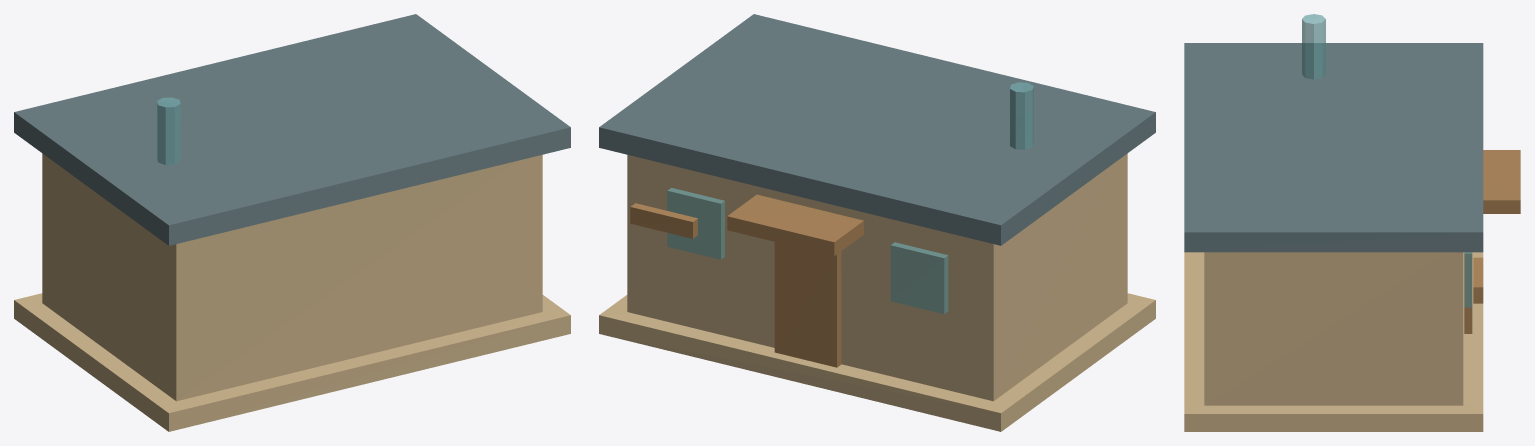
Rendered from clinic.source.glb.
3 renders of one model, left to right at view 1: azimuth 30°, elevation 25°; view 2: azimuth 150°, elevation 25°; view 3: azimuth 270°, elevation 25°, orthographic. The views are drawn at different scales.
Visible parts, largest first — view 1: clinic-clinic-shell-mesh, clinic-clinic-roof-mesh, clinic-foundation-mesh, clinic-vent-stack-mesh; view 2: clinic-clinic-roof-mesh, clinic-clinic-shell-mesh, clinic-foundation-mesh, clinic-teal-clinic-door-mesh, clinic-entry-canopy-mesh, clinic-clinic-window--1.25-mesh, clinic-clinic-window-1.25-mesh, clinic-vent-stack-mesh, clinic-medical-cross-mesh; view 3: clinic-clinic-roof-mesh, clinic-clinic-shell-mesh, clinic-foundation-mesh, clinic-entry-canopy-mesh, clinic-vent-stack-mesh, clinic-teal-clinic-door-mesh, clinic-medical-cross-mesh, clinic-clinic-window-1.25-mesh.
Part boxes in pixels (x1=…): clinic-clinic-shell-mesh: x1=42, y1=153, x2=542, y2=401; clinic-clinic-roof-mesh: x1=14, y1=14, x2=570, y2=245; clinic-foundation-mesh: x1=14, y1=293, x2=570, y2=431; clinic-vent-stack-mesh: x1=157, y1=97, x2=180, y2=164; clinic-clinic-roof-mesh: x1=599, y1=14, x2=1155, y2=245; clinic-clinic-shell-mesh: x1=627, y1=153, x2=1127, y2=401; clinic-foundation-mesh: x1=599, y1=293, x2=1155, y2=431; clinic-teal-clinic-door-mesh: x1=774, y1=242, x2=841, y2=367; clinic-entry-canopy-mesh: x1=727, y1=194, x2=863, y2=256; clinic-clinic-window--1.25-mesh: x1=890, y1=242, x2=948, y2=314; clinic-clinic-window-1.25-mesh: x1=667, y1=187, x2=724, y2=259; clinic-vent-stack-mesh: x1=1010, y1=82, x2=1033, y2=149; clinic-medical-cross-mesh: x1=630, y1=203, x2=697, y2=238; clinic-clinic-roof-mesh: x1=1184, y1=43, x2=1483, y2=252; clinic-clinic-shell-mesh: x1=1204, y1=252, x2=1463, y2=405; clinic-foundation-mesh: x1=1184, y1=252, x2=1483, y2=431; clinic-entry-canopy-mesh: x1=1483, y1=150, x2=1520, y2=213; clinic-vent-stack-mesh: x1=1302, y1=14, x2=1325, y2=79; clinic-teal-clinic-door-mesh: x1=1464, y1=252, x2=1472, y2=333; clinic-medical-cross-mesh: x1=1473, y1=257, x2=1483, y2=303; clinic-clinic-window-1.25-mesh: x1=1464, y1=252, x2=1472, y2=307.
Size of the model in its own units: 4.5 by 2.82 by 3.37.
